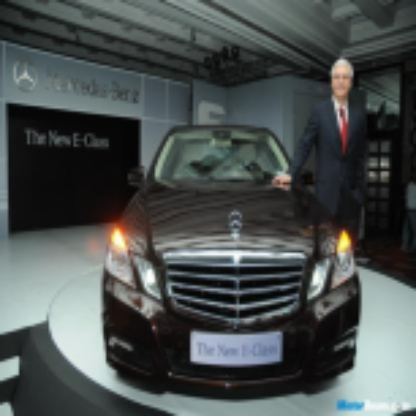Vehicle: (99, 121, 361, 400)
